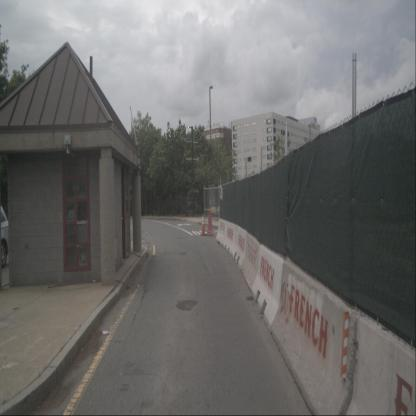barrier: (272, 259, 360, 415), (344, 314, 416, 416), (250, 244, 284, 336), (240, 232, 259, 295), (232, 220, 247, 277), (223, 219, 238, 260), (215, 218, 228, 249)
cone: (204, 202, 216, 236), (199, 212, 208, 235)
